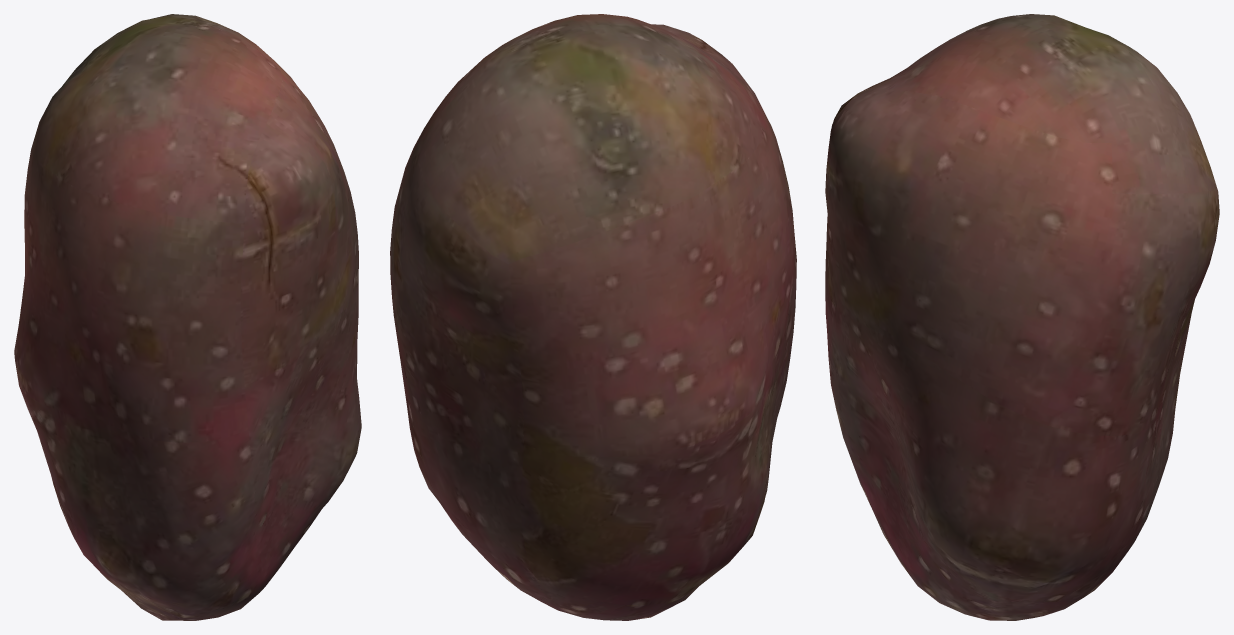
The model's file is sweet_potato.glb.
3 views of the same model, side by side, from view 1: azimuth 30°, elevation 25°; view 2: azimuth 150°, elevation 25°; view 3: azimuth 270°, elevation 25° (orthographic). The views are drawn at different scales.
Visible parts, largest first — view 1: sweet_potato; view 2: sweet_potato; view 3: sweet_potato.
Part boxes in pixels (x1,y1,x2,y2): sweet_potato: (14, 14, 361, 620); sweet_potato: (390, 14, 796, 620); sweet_potato: (825, 14, 1219, 620).
Size of the model in its own units: 0.0581 by 0.1005 by 0.061.
Materials: 1 (1 with a texture image).
